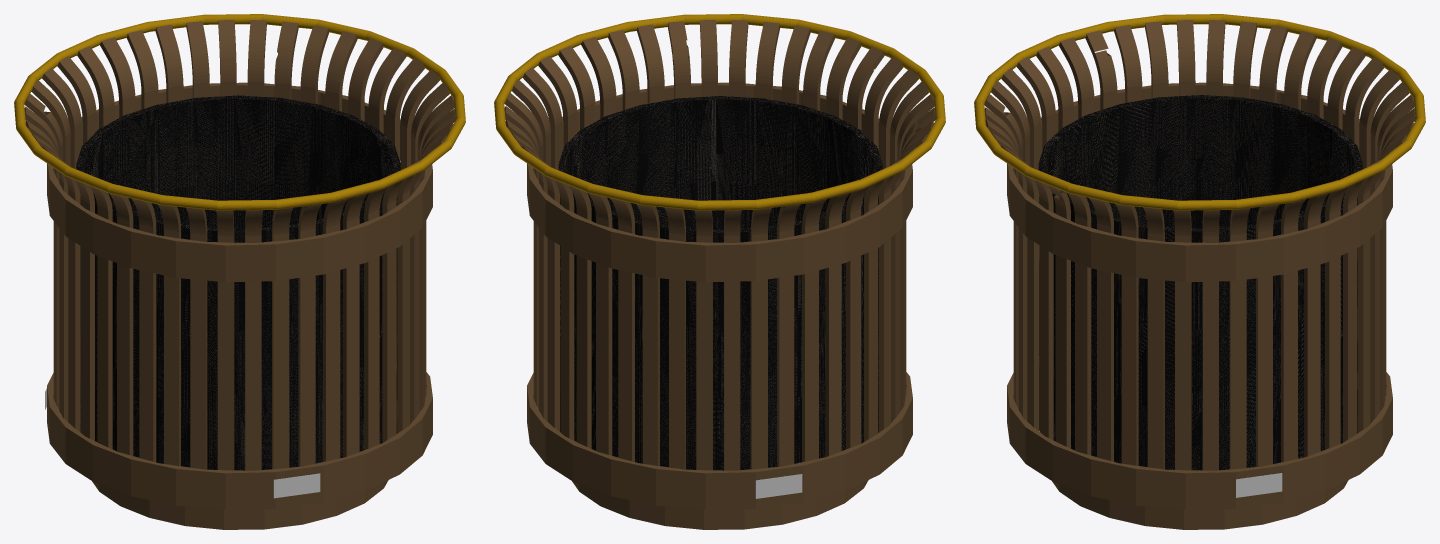
3 views of the same model, side by side, from view 1: azimuth 30°, elevation 25°; view 2: azimuth 150°, elevation 25°; view 3: azimuth 270°, elevation 25° (orthographic).
Visible parts, largest first — view 1: mesh1_mesh1-geometry, mesh24_mesh24-geometry, mesh29_mesh29-geometry, mesh114_mesh114-geometry, mesh17_mesh17-geometry, mesh78_mesh78-geometry, mesh52_mesh52-geometry, mesh60_mesh60-geometry, mesh80_mesh80-geometry, mesh72_mesh72-geometry, mesh15_mesh15-geometry, mesh50_mesh50-geometry (+36 smaller); view 2: mesh1_mesh1-geometry, mesh24_mesh24-geometry, mesh29_mesh29-geometry, mesh114_mesh114-geometry, mesh17_mesh17-geometry, mesh84_mesh84-geometry, mesh76_mesh76-geometry, mesh62_mesh62-geometry, mesh40_mesh40-geometry, mesh70_mesh70-geometry, mesh66_mesh66-geometry, mesh58_mesh58-geometry (+36 smaller); view 3: mesh1_mesh1-geometry, mesh24_mesh24-geometry, mesh29_mesh29-geometry, mesh114_mesh114-geometry, mesh17_mesh17-geometry, mesh108_mesh108-geometry, mesh74_mesh74-geometry, mesh104_mesh104-geometry, mesh96_mesh96-geometry, mesh36_mesh36-geometry, mesh98_mesh98-geometry, mesh64_mesh64-geometry (+36 smaller).
Part boxes in pixels (x1,y1,x2,y2): mesh1_mesh1-geometry: (76, 95, 400, 470); mesh24_mesh24-geometry: (47, 82, 432, 282); mesh29_mesh29-geometry: (47, 372, 432, 509); mesh114_mesh114-geometry: (14, 14, 465, 210); mesh17_mesh17-geometry: (92, 480, 388, 529); mesh78_mesh78-geometry: (298, 204, 321, 466); mesh52_mesh52-geometry: (186, 207, 207, 469); mesh60_mesh60-geometry: (272, 207, 293, 469); mesh80_mesh80-geometry: (216, 210, 234, 470); mesh72_mesh72-geometry: (131, 199, 156, 462); mesh15_mesh15-geometry: (323, 198, 348, 461); mesh50_mesh50-geometry: (245, 210, 263, 470); mesh1_mesh1-geometry: (558, 96, 882, 470); mesh24_mesh24-geometry: (527, 82, 912, 282); mesh29_mesh29-geometry: (527, 372, 912, 509); mesh114_mesh114-geometry: (494, 14, 945, 210); mesh17_mesh17-geometry: (572, 480, 868, 529); mesh84_mesh84-geometry: (777, 204, 800, 466); mesh76_mesh76-geometry: (750, 208, 771, 469); mesh62_mesh62-geometry: (636, 204, 659, 465); mesh40_mesh40-geometry: (664, 207, 685, 469); mesh70_mesh70-geometry: (724, 210, 741, 470); mesh66_mesh66-geometry: (694, 210, 712, 470); mesh58_mesh58-geometry: (609, 198, 634, 461); mesh1_mesh1-geometry: (1038, 95, 1362, 470); mesh24_mesh24-geometry: (1007, 82, 1392, 282); mesh29_mesh29-geometry: (1007, 372, 1392, 509); mesh114_mesh114-geometry: (974, 14, 1425, 210); mesh17_mesh17-geometry: (1052, 480, 1348, 529); mesh108_mesh108-geometry: (1143, 207, 1164, 469); mesh74_mesh74-geometry: (1229, 208, 1250, 469); mesh104_mesh104-geometry: (1115, 204, 1138, 465); mesh96_mesh96-geometry: (1256, 204, 1279, 466); mesh36_mesh36-geometry: (1202, 210, 1220, 470); mesh98_mesh98-geometry: (1173, 210, 1191, 470); mesh64_mesh64-geometry: (1089, 198, 1113, 461).
Bounding box in the file's own units: 0.6017 × 0.5253 × 0.6017.
